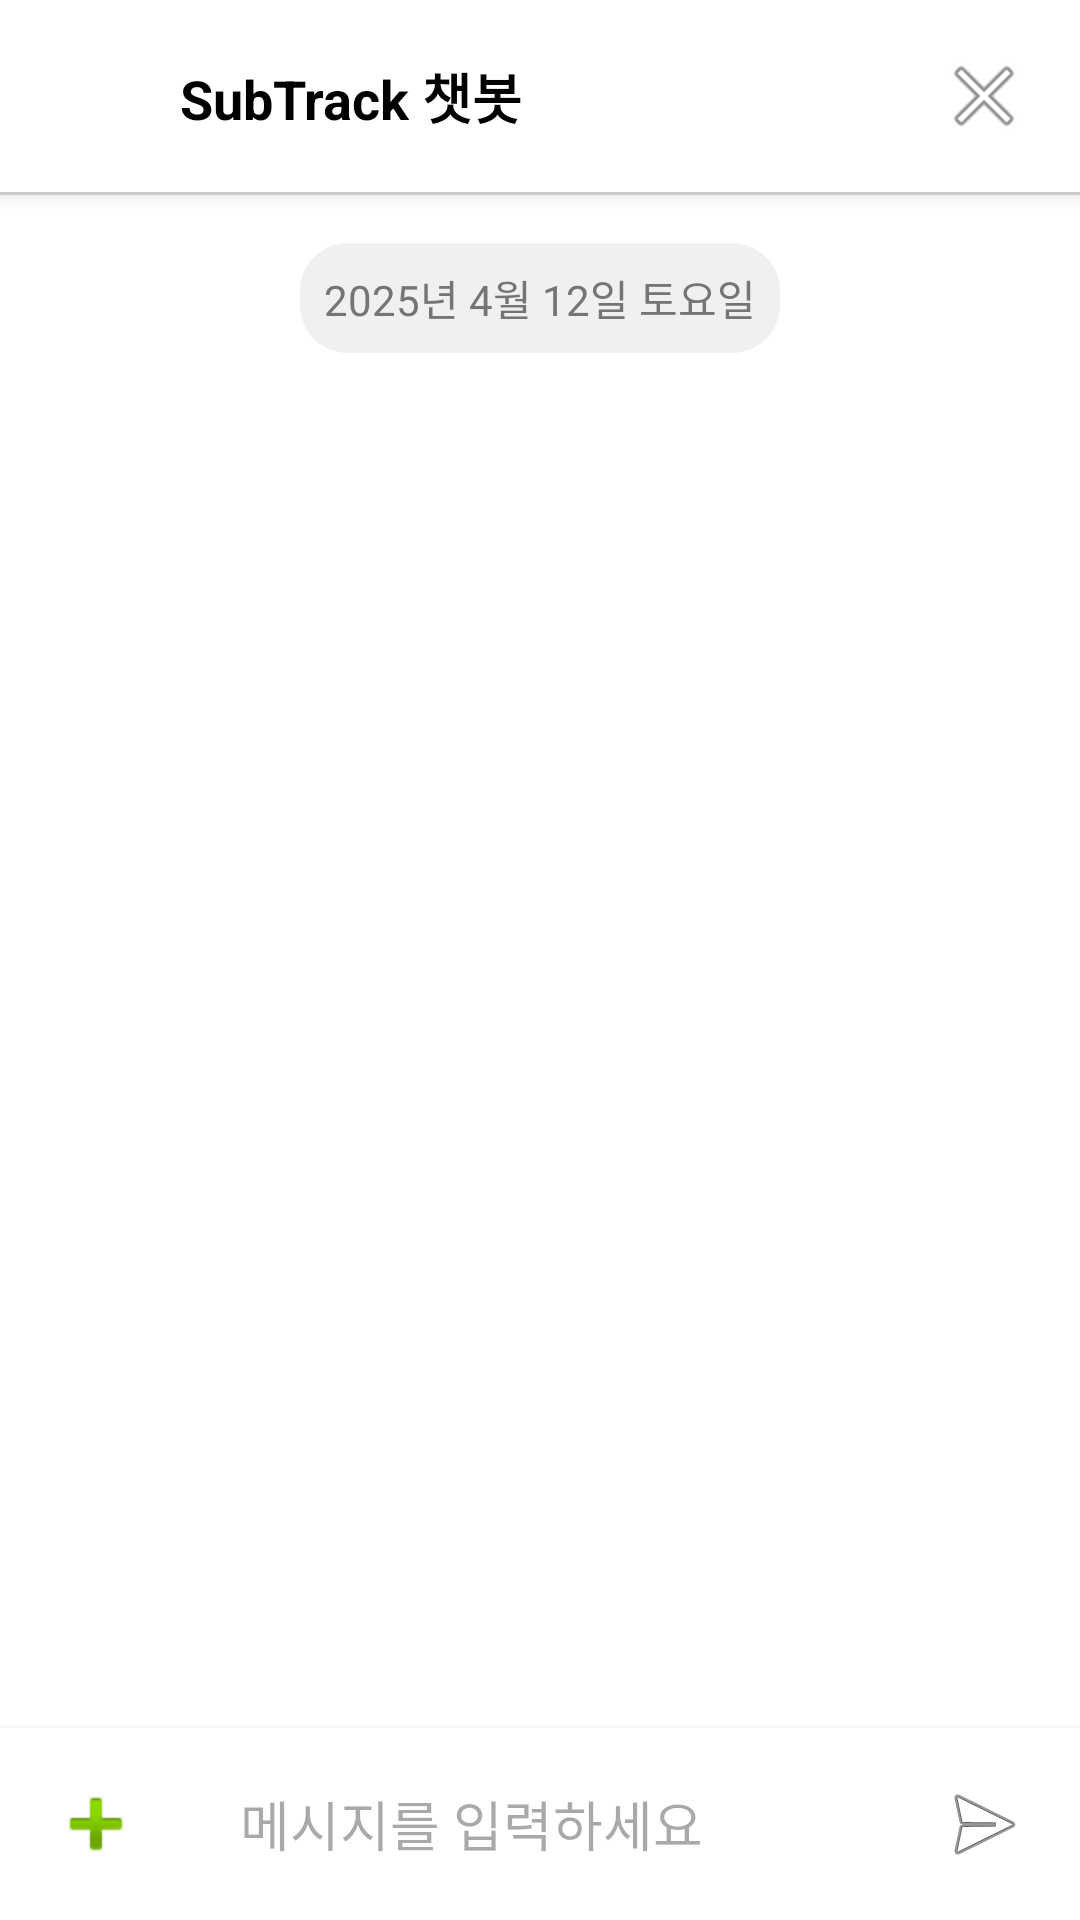

Named icons in this screenshot (1080 × 1920) and their bounding boxes, bbox(x1, y1, x2, y2):
닫기: bbox(954, 66, 1014, 126)
메시지 보내기: bbox(954, 1794, 1016, 1855)
파일 첨부: bbox(69, 1797, 123, 1851)
